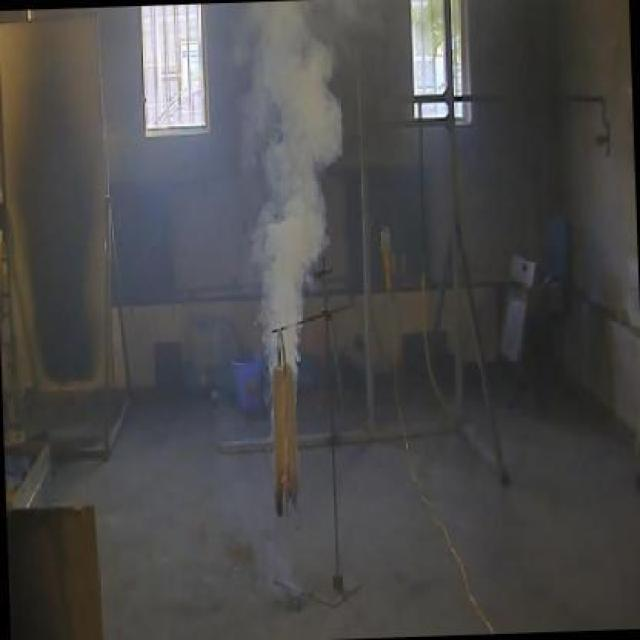fire: (226, 0, 349, 352)
